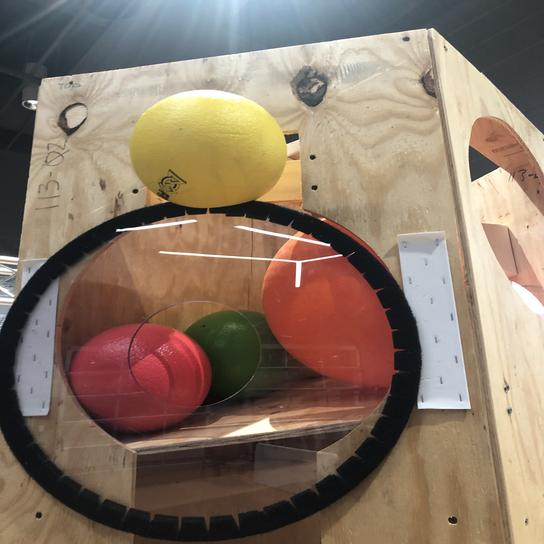ball: (126, 86, 291, 210)
